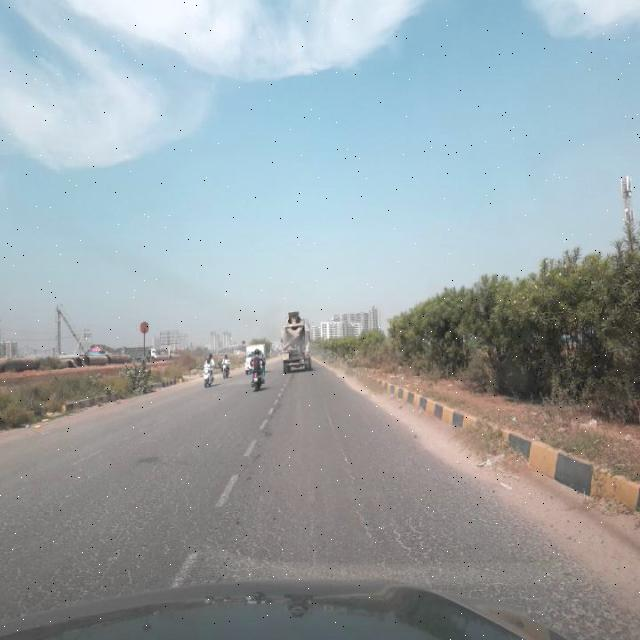D00: (323, 404, 372, 546)
D20: (1, 425, 291, 587), (373, 436, 604, 578)
